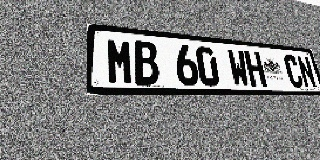0: (195, 46, 220, 86)
6: (174, 44, 200, 86)
B: (133, 40, 160, 85)
C: (282, 54, 305, 88)
H: (244, 51, 267, 87)
M: (106, 38, 134, 85)
N: (296, 55, 318, 88)
W: (227, 49, 251, 87)
